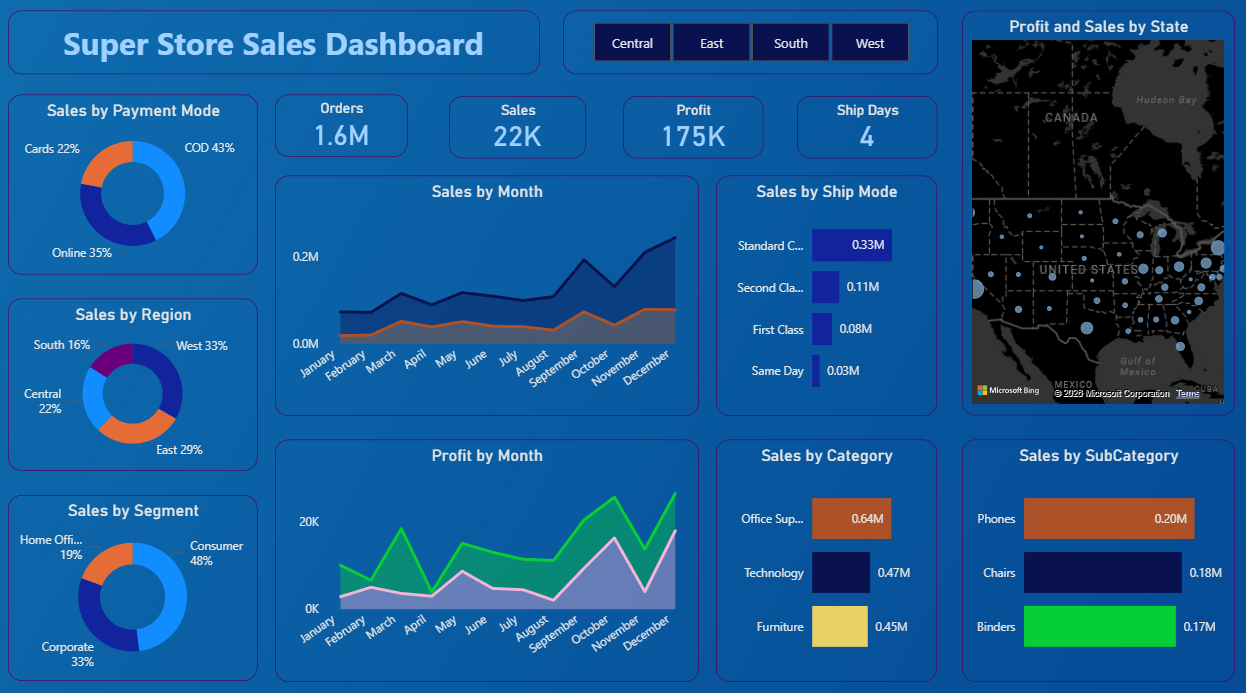

Layout of this report page (visuals, bound fields, positions):
{"tool":"powerbi","page":{"name":"Page 1","canvas":[1280,720],"ordinal":0},"visuals":[{"type":"clusteredBarChart","title":" Sales by Category","fields":{"Category":["SuperStore_Sales_Dataset.Category"],"Y":["Sum(SuperStore_Sales_Dataset.Sales)"]},"box":[735.9,453.1,226.6,248.4],"z":0},{"type":"clusteredBarChart","title":" Sales by SubCategory","fields":{"Y":["Sum(SuperStore_Sales_Dataset.Sales)"],"Category":["SuperStore_Sales_Dataset.Sub-Category"]},"box":[987.5,453.1,279.7,248.4],"z":1000},{"type":"clusteredBarChart","title":" Sales by Ship Mode","fields":{"Y":["Sum(SuperStore_Sales_Dataset.Sales)"],"Category":["SuperStore_Sales_Dataset.Ship Mode"]},"box":[735.9,182.8,226.6,246.9],"z":2000},{"type":"stackedAreaChart","title":" Sales by Month","fields":{"Y":["Sum(SuperStore_Sales_Dataset.Sales)"],"Category":["SuperStore_Sales_Dataset.Order Date.Variation.Date Hierarchy.Month","SuperStore_Sales_Dataset.Order Date.Variation.Date Hierarchy.Day"],"Series":["SuperStore_Sales_Dataset.Order Date.Variation.Date Hierarchy.Year"]},"box":[282.8,182.8,434.4,246.9],"z":3000},{"type":"stackedAreaChart","title":"Profit by  Month","fields":{"Category":["SuperStore_Sales_Dataset.Order Date.Variation.Date Hierarchy.Month","SuperStore_Sales_Dataset.Order Date.Variation.Date Hierarchy.Day"],"Series":["SuperStore_Sales_Dataset.Order Date.Variation.Date Hierarchy.Year"],"Y":["Sum(SuperStore_Sales_Dataset.Profit)"]},"box":[282.8,453.1,434.4,248.4],"z":4000},{"type":"map","title":"Profit and Sales by State","fields":{"Category":["SuperStore_Sales_Dataset.State"],"Size":["Sum(SuperStore_Sales_Dataset.Sales)"]},"box":[987.5,14.1,279.7,415.6],"z":5000},{"type":"donutChart","title":"Sales by Segment","fields":{"Category":["SuperStore_Sales_Dataset.Segment"],"Y":["Sum(SuperStore_Sales_Dataset.Sales)"]},"box":[9.4,510.9,256.2,190.6],"z":6000},{"type":"donutChart","title":" Sales by Payment Mode","fields":{"Y":["Sum(SuperStore_Sales_Dataset.Sales)"],"Category":["SuperStore_Sales_Dataset.Payment Mode"]},"box":[9.4,100,256.2,184.4],"z":7000},{"type":"slicer","fields":{"Values":["SuperStore_Sales_Dataset.Region"]},"box":[578.1,14.1,384.4,65.6],"z":8000},{"type":"card","title":"Orders","fields":{"Values":["Sum(SuperStore_Sales_Dataset.Sales)"]},"box":[282.8,100,135.9,64.1],"z":9000},{"type":"card","title":"Sales","fields":{"Values":["Sum(SuperStore_Sales_Dataset.Quantity)"]},"box":[460.9,101.6,140.6,64.1],"z":10000},{"type":"card","title":"Profit","fields":{"Values":["Sum(SuperStore_Sales_Dataset.Profit)"]},"box":[640.6,101.6,143.8,64.1],"z":11000},{"type":"card","title":"Ship Days","fields":{"Values":["Avg(SuperStore_Sales_Dataset.AvgDelivery)"]},"box":[818.8,101.6,143.8,64.1],"z":12000},{"type":"donutChart","title":"Sales by Region","fields":{"Y":["Sum(SuperStore_Sales_Dataset.Sales)"],"Category":["SuperStore_Sales_Dataset.Region"]},"box":[9.4,309.4,256.2,176.6],"z":13000},{"type":"textbox","box":[9.4,14.1,545.3,65.6],"z":14000}]}

Visuals, with their boxes in screenshot pixels (x1, y1, x2, y2), scaled from the page's 1280x720 canvas onto the 1246x693 screenshot:
" Sales by Category" clusteredBarChart: bbox(716, 436, 937, 675)
" Sales by SubCategory" clusteredBarChart: bbox(961, 436, 1234, 675)
" Sales by Ship Mode" clusteredBarChart: bbox(716, 176, 937, 414)
" Sales by Month" stackedAreaChart: bbox(275, 176, 698, 414)
"Profit by  Month" stackedAreaChart: bbox(275, 436, 698, 675)
"Profit and Sales by State" map: bbox(961, 14, 1234, 414)
"Sales by Segment" donutChart: bbox(9, 492, 259, 675)
" Sales by Payment Mode" donutChart: bbox(9, 96, 259, 274)
slicer - SuperStore_Sales_Dataset.Region: bbox(563, 14, 937, 77)
"Orders" card: bbox(275, 96, 408, 158)
"Sales" card: bbox(449, 98, 586, 159)
"Profit" card: bbox(624, 98, 764, 159)
"Ship Days" card: bbox(797, 98, 937, 159)
"Sales by Region" donutChart: bbox(9, 298, 259, 468)
textbox: bbox(9, 14, 540, 77)
